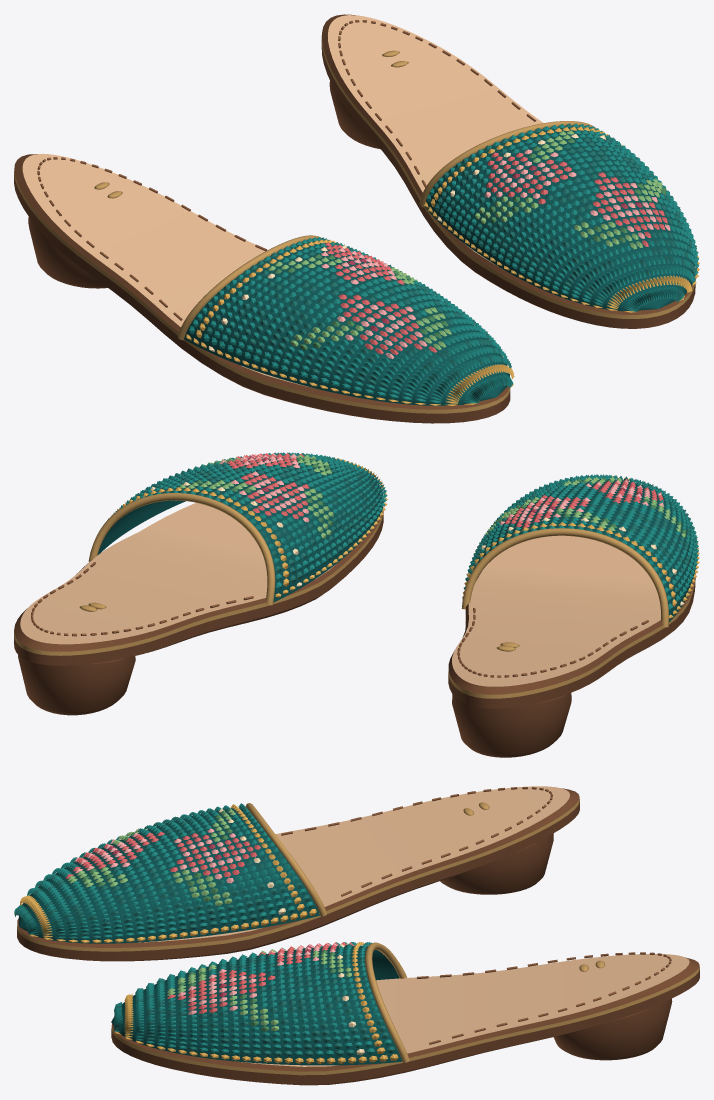
3 views of the same model, one above another, from view 1: azimuth 30°, elevation 25°; view 2: azimuth 150°, elevation 25°; view 3: azimuth 270°, elevation 25° (orthographic). The views are drawn at different scales.
Visible parts, largest first — view 1: Leatherwork, Rose beadwork, Vamps, Embroidery; view 2: Leatherwork, Rose beadwork, Vamps, Embroidery; view 3: Leatherwork, Rose beadwork, Vamps, Embroidery.
Part boxes in pixels (x1=…): Leatherwork: x1=14, y1=14, x2=695, y2=423; Rose beadwork: x1=186, y1=123, x2=699, y2=405; Vamps: x1=184, y1=126, x2=694, y2=405; Embroidery: x1=37, y1=20, x2=596, y2=340; Leatherwork: x1=14, y1=502, x2=695, y2=757; Rose beadwork: x1=108, y1=452, x2=699, y2=618; Vamps: x1=97, y1=457, x2=695, y2=622; Embroidery: x1=31, y1=493, x2=668, y2=677; Leatherwork: x1=17, y1=786, x2=699, y2=1085; Rose beadwork: x1=14, y1=803, x2=398, y2=1063; Vamps: x1=19, y1=807, x2=402, y2=1065; Embroidery: x1=245, y1=787, x2=671, y2=1062.
Size of the model in its own units: 0.2413 by 0.043 by 0.2961.
